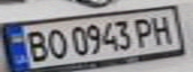0: (66, 22, 87, 56)
3: (115, 18, 136, 52)
4: (100, 19, 121, 53)
9: (84, 20, 106, 55)
B: (21, 28, 51, 63)
H: (148, 11, 178, 45)
O: (42, 26, 69, 61)
P: (130, 15, 160, 48)
